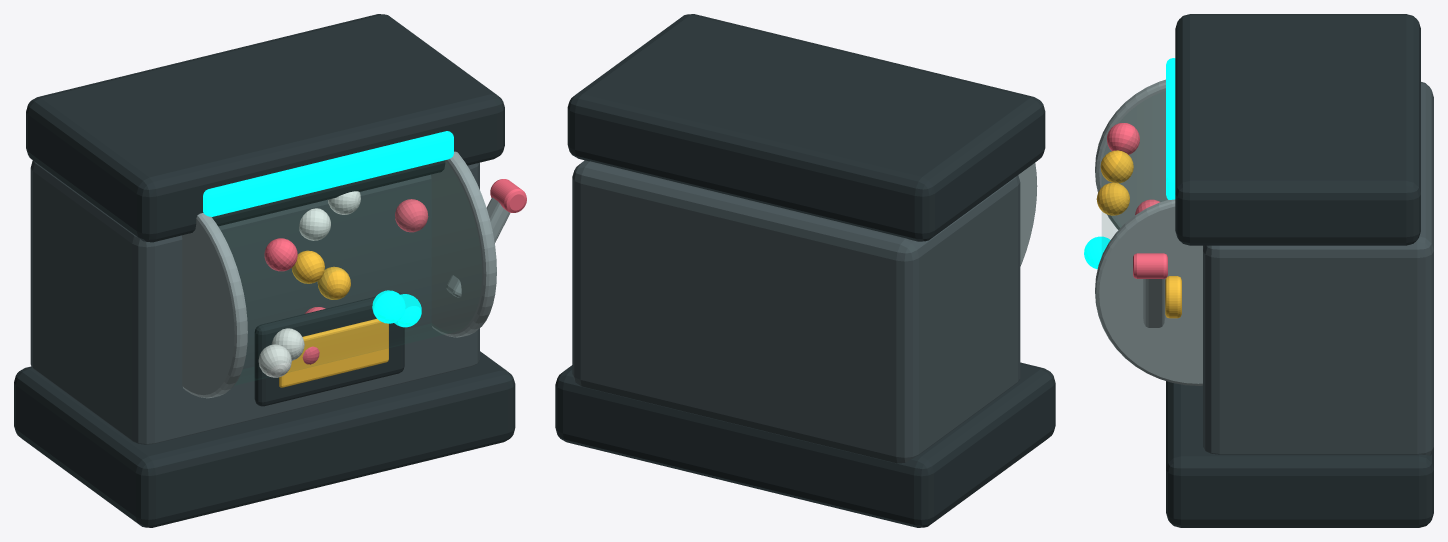
File: kuji-machine.glb
The picture shows the model from 3 angles, left to right: view 1: azimuth 30°, elevation 25°; view 2: azimuth 150°, elevation 25°; view 3: azimuth 270°, elevation 25°; orthographic projection.
Parts seen in each view (by area): view 1: KUJI_Header, KUJI_Body, KUJI_Base, KUJI_DrumRim_L, KUJI_DrumRim_R, KUJI_Lightbar, KUJI_PrizeDoor, KUJI_PrizeGlow, KUJI_Capsule_05, KUJI_Capsule_15, KUJI_Capsule_08, KUJI_Capsule_07 (+7 smaller); view 2: KUJI_Body, KUJI_Header, KUJI_Base, KUJI_DrumRim_L; view 3: KUJI_Header, KUJI_Body, KUJI_Base, KUJI_DrumRim_R, KUJI_DrumRim_L, KUJI_Lightbar, KUJI_Handle, KUJI_HandleGrip, KUJI_Capsule_10, KUJI_Capsule_02, KUJI_Capsule_15, KUJI_HandleHub (+1 smaller).
Part boxes in pixels (left/top/right/bottom): KUJI_Header: left=26, top=14, right=504, bottom=242; KUJI_Body: left=30, top=160, right=479, bottom=444; KUJI_Base: left=14, top=351, right=515, bottom=527; KUJI_DrumRim_L: left=182, top=213, right=247, bottom=398; KUJI_DrumRim_R: left=431, top=151, right=496, bottom=337; KUJI_Lightbar: left=203, top=131, right=453, bottom=216; KUJI_PrizeDoor: left=254, top=292, right=404, bottom=406; KUJI_PrizeGlow: left=279, top=318, right=388, bottom=387; KUJI_Capsule_05: left=372, top=290, right=405, bottom=323; KUJI_Capsule_15: left=264, top=238, right=297, bottom=271; KUJI_Capsule_08: left=258, top=344, right=291, bottom=377; KUJI_Capsule_07: left=395, top=199, right=428, bottom=232; KUJI_Body: left=572, top=160, right=1020, bottom=463; KUJI_Header: left=567, top=14, right=1045, bottom=241; KUJI_Base: left=555, top=362, right=1055, bottom=527; KUJI_DrumRim_L: left=1018, top=163, right=1037, bottom=266; KUJI_Header: left=1175, top=14, right=1420, bottom=245; KUJI_Body: left=1203, top=82, right=1433, bottom=455; KUJI_Base: left=1166, top=381, right=1433, bottom=527; KUJI_DrumRim_R: left=1095, top=199, right=1202, bottom=385; KUJI_DrumRim_L: left=1095, top=79, right=1167, bottom=229; KUJI_Lightbar: left=1166, top=58, right=1175, bottom=199; KUJI_Handle: left=1143, top=279, right=1165, bottom=327; KUJI_HandleGrip: left=1133, top=253, right=1167, bottom=278; KUJI_Capsule_10: left=1096, top=182, right=1129, bottom=215; KUJI_Capsule_02: left=1100, top=150, right=1133, bottom=183; KUJI_Capsule_15: left=1107, top=123, right=1139, bottom=154; KUJI_HandleHub: left=1165, top=276, right=1181, bottom=318.
Bounding box in the file's own units: 4.7 × 4.1 × 3.79.
